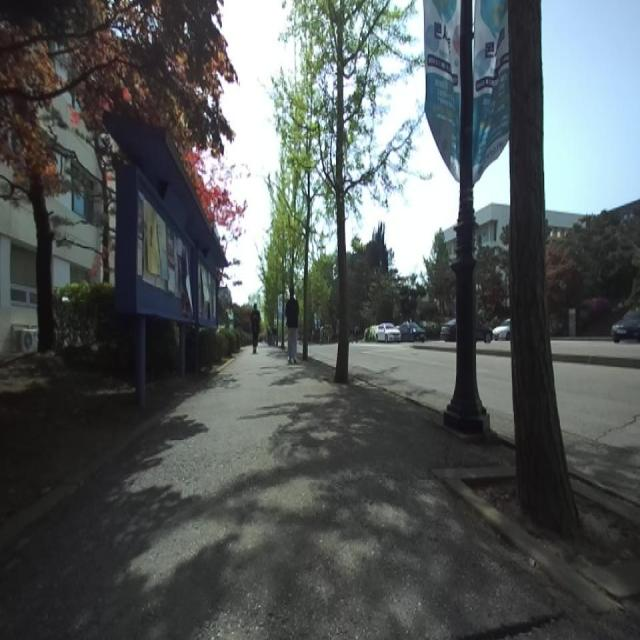sidewalk: (0, 347, 640, 639)
